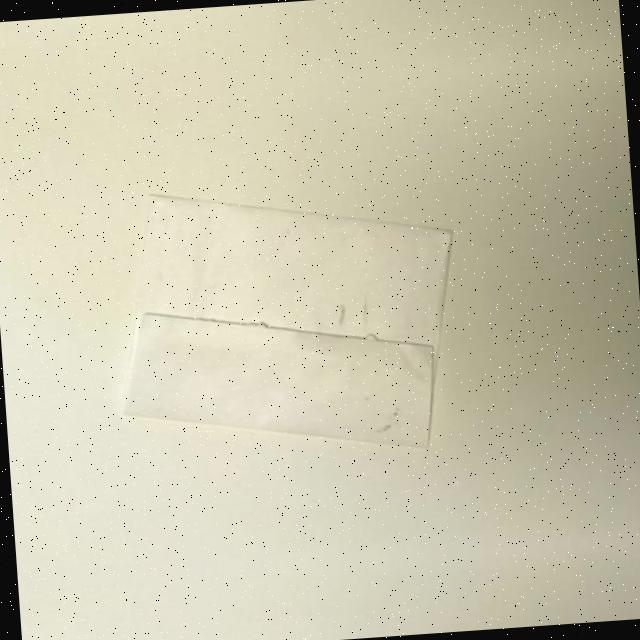paper: (90, 150, 499, 482)
